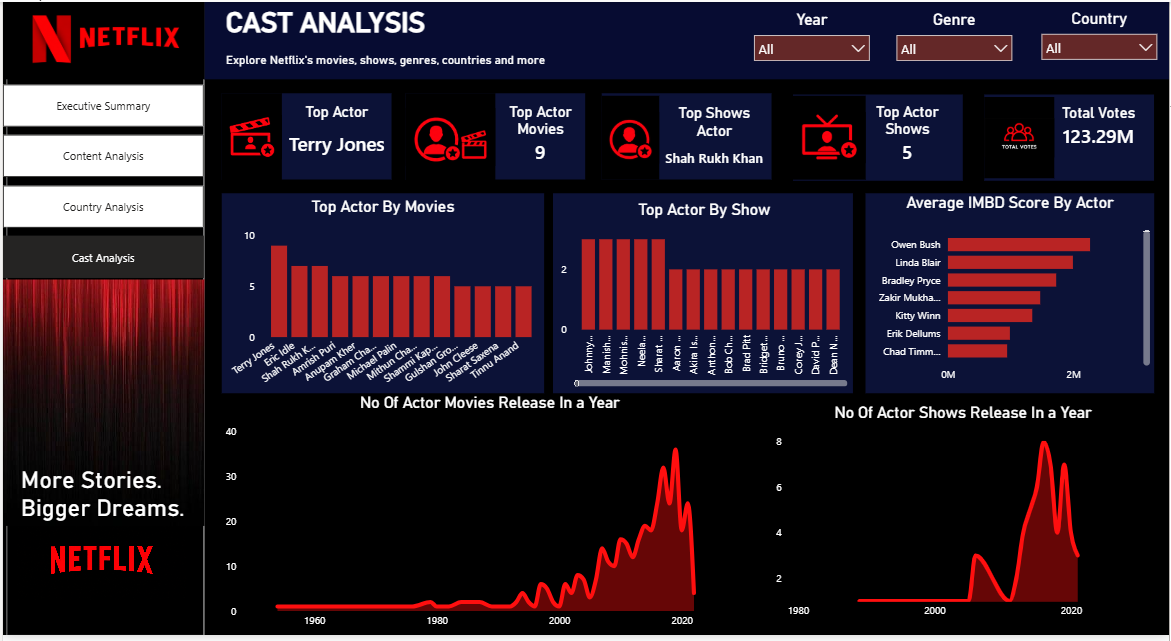

What the dashboard file says about the page in this screenshot:
{"tool":"powerbi","page":{"name":"Cast Analysis","canvas":[1412,767],"ordinal":3},"visuals":[{"type":"shape","box":[4.5,0,239.2,767.5],"z":0},{"type":"shape","box":[243.7,0,1168.6,93.9],"z":1000},{"type":"textbox","box":[264.9,0,354.2,56],"z":2000},{"type":"textbox","box":[264.9,56,596.4,54.5],"z":3000},{"type":"pageNavigator","box":[0,93.9,243.7,242.2],"z":4000},{"type":"image","box":[0,0,243.7,93.9],"z":5000},{"type":"image","box":[16.7,634.3,205.9,89.3],"z":6000},{"type":"image","box":[0,336,243.7,298.2],"z":7000},{"type":"textbox","box":[16.7,557.1,216.5,210.4],"z":8000},{"type":"shape","box":[264.9,110.5,205.9,104.4],"z":9000},{"type":"shape","box":[725.1,110.5,205.9,104.4],"z":10000},{"type":"shape","box":[487.4,110.5,218,104.4],"z":11000},{"type":"shape","box":[956.7,112,205.9,104.4],"z":12000},{"type":"shape","box":[1188.3,112,205.9,104.4],"z":13000},{"type":"shape","box":[264.9,231.6,390.5,242.2],"z":14000},{"type":"shape","box":[666,231.6,363.3,242.2],"z":15000},{"type":"shape","box":[1044.5,231.6,349.7,242.2],"z":16000},{"type":"cardVisual","title":"Top Actor","fields":{"Data":["Best Movie by Year Netflix.Top Movie Actor"]},"box":[337.6,122.6,133.2,78.7],"z":17000},{"type":"image","box":[264.9,110.5,72.7,106],"z":18000},{"type":"cardVisual","title":"Top Actor Movies","fields":{"Data":["Best Movie by Year Netflix.Top Actor Movies Count"]},"box":[596.4,122.6,109,78.7],"z":19000},{"type":"cardVisual","title":"Top Shows Actor","fields":{"Data":["Best Movie by Year Netflix.Top Show Actor"]},"box":[794.7,124.1,133.2,90.8],"z":20000},{"type":"cardVisual","title":"Top Actor Shows","fields":{"Data":["Best Movie by Year Netflix.Top Actor Shows Count"]},"box":[1027.8,122.6,134.7,78.7],"z":21000},{"type":"cardVisual","title":"Total Votes","fields":{"Data":["Best Movie by Year Netflix.Total Votes"]},"box":[1259.4,124.1,134.7,56],"z":22000},{"type":"image","box":[487.4,110.5,109,106],"z":23000},{"type":"image","box":[725.1,113.5,69.6,101.4],"z":24000},{"type":"image","box":[956.7,113.5,87.8,101.4],"z":25000},{"type":"image","box":[1188.3,115,84.8,98.4],"z":26000},{"type":"clusteredColumnChart","title":"Top Actor By Movies","fields":{"Category":["raw_credits.name"],"Y":["Best Movie by Year Netflix.Actor Movie Count"]},"box":[264.9,236.1,390.5,237.7],"z":27000},{"type":"columnChart","title":"Top Actor By Show","fields":{"Category":["raw_credits.name"],"Y":["Best Movie by Year Netflix.Actor Show Count"]},"box":[670.6,240.7,357.2,230.1],"z":28000},{"type":"slicer","title":"Year","fields":{"Values":["Best Movie by Year Netflix.RELEASE_YEAR"]},"box":[899.2,10.6,160.5,74.2],"z":29000},{"type":"slicer","title":"Genre","fields":{"Values":["raw_titles.genres.2"]},"box":[1071.7,10.6,160.5,74.2],"z":30000},{"type":"slicer","title":"Country","fields":{"Values":["Best Movie by Year Netflix.MAIN_PRODUCTION"]},"box":[1247.3,9.1,160.5,74.2],"z":31000},{"type":"lineChart","title":"No Of Actor Shows Release In a Year","fields":{"Category":["Best Shows Netflix.RELEASE_YEAR"],"Y":["Best Movie by Year Netflix.Total Actors"]},"box":[930.9,485.9,463.2,269.4],"z":32000},{"type":"barChart","title":"Average IMBD Score By Actor","fields":{"Category":["raw_credits.name"],"Y":["Best Movie by Year Netflix.Actor Total Votes"]},"box":[1044.5,231.6,349.7,237.7],"z":33000},{"type":"pageNavigator","box":[0,99.9,243.7,236.1],"z":34000},{"type":"lineChart","title":"No Of Actor Movies Release In a Year","fields":{"Category":["Best Movies Netflix.RELEASE_YEAR"],"Y":["Best Movie by Year Netflix.Total Actors"]},"box":[264.9,473.8,649.4,293.7],"z":35000}]}

Visuals, with their boxes in screenshot pixels (x1, y1, x2, y2), scaled from the page's 1412x767 canvas onto the 1171x641 screenshot:
shape: 4:0:202:640
shape: 202:0:1170:78
textbox: 220:0:513:47
textbox: 220:47:714:92
pageNavigator: 0:78:202:281
image: 0:0:202:78
image: 14:530:185:605
image: 0:281:202:530
textbox: 14:466:193:640
shape: 220:92:390:180
shape: 601:92:772:180
shape: 404:92:585:180
shape: 793:94:964:181
shape: 985:94:1156:181
shape: 220:194:544:396
shape: 552:194:854:396
shape: 866:194:1156:396
"Top Actor" cardVisual: 280:102:390:168
image: 220:92:280:181
"Top Actor Movies" cardVisual: 495:102:585:168
"Top Shows Actor" cardVisual: 659:104:770:180
"Top Actor Shows" cardVisual: 852:102:964:168
"Total Votes" cardVisual: 1044:104:1156:151
image: 404:92:495:181
image: 601:95:659:180
image: 793:95:866:180
image: 985:96:1056:178
"Top Actor By Movies" clusteredColumnChart: 220:197:544:396
"Top Actor By Show" columnChart: 556:201:852:393
"Year" slicer: 746:9:879:71
"Genre" slicer: 889:9:1022:71
"Country" slicer: 1034:8:1168:70
"No Of Actor Shows Release In a Year" lineChart: 772:406:1156:631
"Average IMBD Score By Actor" barChart: 866:194:1156:392
pageNavigator: 0:83:202:281
"No Of Actor Movies Release In a Year" lineChart: 220:396:758:640
